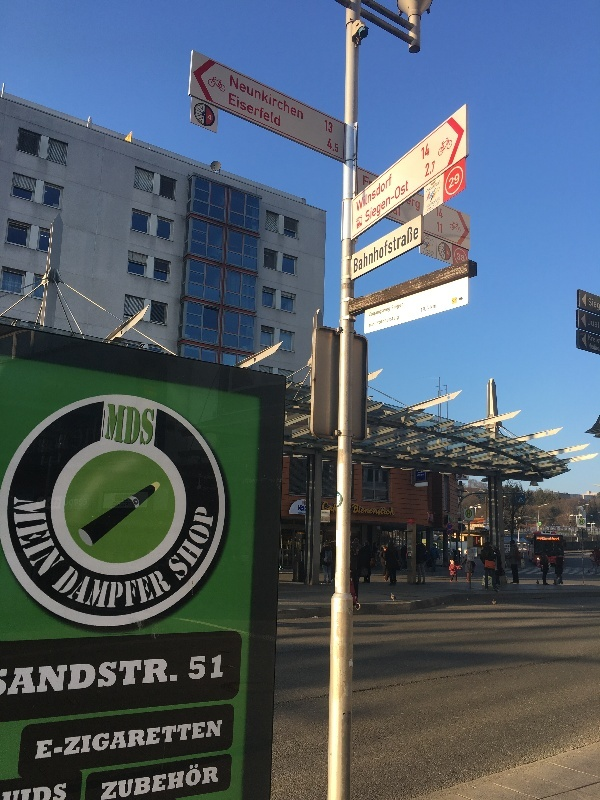text: (177, 499, 192, 598), (193, 499, 208, 598), (17, 497, 32, 588), (33, 497, 48, 588), (49, 497, 64, 588), (166, 499, 176, 598), (65, 561, 80, 621), (81, 561, 96, 621), (97, 561, 112, 621), (113, 561, 128, 621), (129, 561, 144, 621), (145, 561, 160, 621), (161, 561, 176, 621), (209, 499, 217, 598), (369, 222, 384, 274), (385, 222, 400, 274), (401, 222, 416, 274), (8, 497, 16, 588), (354, 222, 368, 274), (369, 179, 384, 227), (385, 179, 400, 227), (113, 402, 128, 449), (129, 402, 144, 449), (241, 75, 256, 121), (257, 75, 272, 121), (273, 75, 288, 121), (49, 719, 64, 762), (65, 719, 80, 762), (81, 719, 96, 762), (97, 719, 112, 762), (113, 719, 128, 762), (129, 719, 144, 762), (145, 719, 160, 762), (161, 719, 176, 762), (177, 719, 192, 762), (193, 719, 208, 762), (289, 75, 303, 121), (209, 719, 223, 762), (369, 173, 384, 213), (113, 761, 128, 800), (129, 761, 144, 800), (145, 761, 160, 800), (161, 761, 176, 800), (177, 761, 192, 800), (193, 761, 208, 800), (1, 659, 16, 698), (17, 659, 32, 698), (33, 659, 48, 698), (49, 659, 64, 698), (65, 659, 80, 698), (81, 659, 96, 698), (97, 659, 112, 698), (113, 659, 128, 698), (129, 659, 144, 698), (145, 659, 160, 698), (161, 659, 176, 698), (241, 92, 256, 127), (257, 92, 272, 127), (193, 651, 208, 684), (209, 651, 224, 684), (37, 719, 48, 762), (145, 402, 155, 449), (357, 173, 368, 213), (231, 75, 240, 121), (102, 761, 112, 800), (209, 761, 219, 800), (230, 92, 240, 127), (401, 179, 408, 227), (449, 172, 464, 191), (273, 92, 281, 127), (385, 173, 392, 213), (17, 783, 32, 800), (33, 783, 48, 800), (49, 783, 64, 800), (2, 783, 16, 800), (177, 659, 183, 698), (353, 503, 368, 517), (369, 503, 384, 517), (421, 143, 432, 161), (114, 494, 128, 508), (108, 402, 112, 449), (323, 500, 336, 514), (325, 119, 336, 134), (369, 307, 384, 318), (385, 503, 396, 517), (385, 315, 399, 326), (436, 207, 448, 219), (65, 499, 80, 508), (437, 222, 448, 234), (210, 113, 224, 122), (408, 198, 416, 213), (329, 137, 336, 154), (425, 161, 432, 178), (433, 180, 441, 194), (417, 222, 419, 274), (593, 298, 600, 312), (129, 494, 136, 508), (366, 179, 368, 227), (433, 197, 441, 209), (65, 497, 66, 588), (433, 201, 440, 214), (467, 511, 480, 517), (593, 318, 600, 329), (377, 315, 384, 326), (421, 306, 432, 313), (545, 537, 560, 542), (369, 323, 384, 328), (593, 334, 600, 344), (593, 342, 600, 352), (427, 180, 432, 194), (394, 206, 400, 217), (363, 174, 368, 187), (427, 201, 432, 214), (392, 303, 400, 311), (457, 253, 464, 262), (63, 561, 64, 621), (465, 524, 480, 528), (427, 197, 432, 209), (422, 248, 432, 254), (424, 236, 432, 243), (385, 307, 390, 318), (423, 251, 432, 257), (81, 499, 87, 508), (467, 527, 480, 531), (65, 783, 68, 800), (580, 520, 592, 524), (417, 474, 432, 477), (417, 198, 420, 213), (418, 472, 432, 475), (589, 298, 592, 312), (298, 505, 304, 512), (537, 537, 544, 542), (337, 137, 339, 154), (433, 161, 435, 178), (589, 334, 592, 344), (589, 342, 592, 352), (401, 303, 404, 311), (590, 318, 592, 329), (433, 305, 436, 310), (481, 524, 483, 528), (433, 236, 434, 243), (305, 505, 306, 512), (433, 248, 434, 254), (433, 251, 434, 257), (449, 251, 450, 256), (431, 305, 432, 310)
